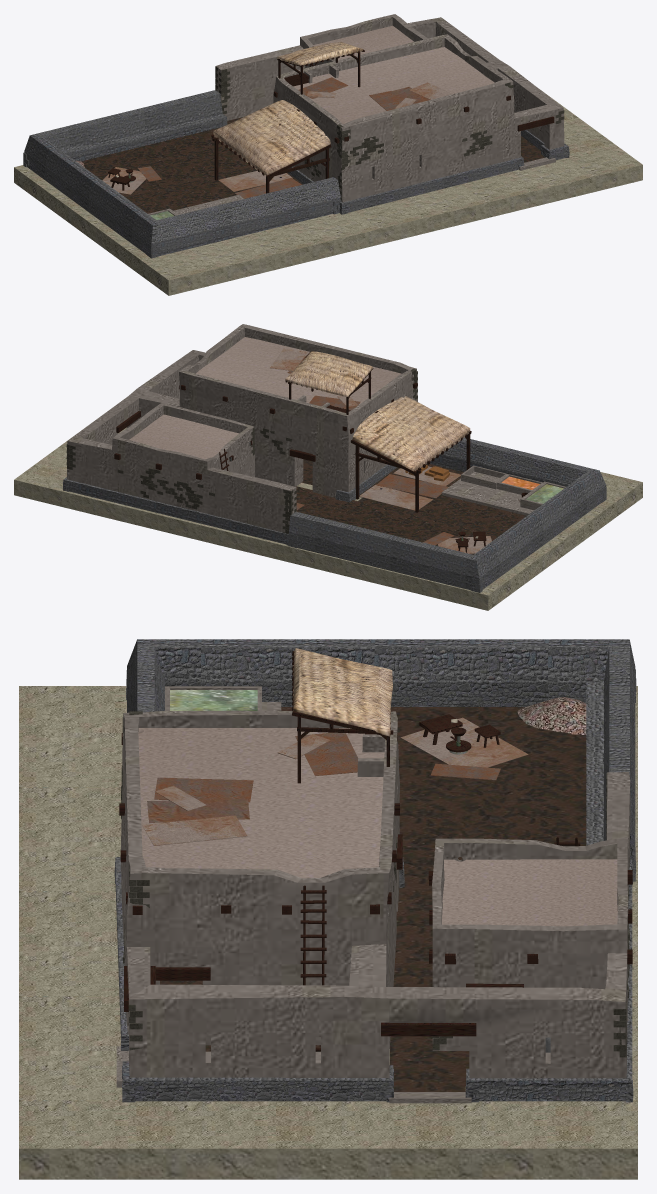
3 views of the same model, one above another, from view 1: azimuth 30°, elevation 25°; view 2: azimuth 150°, elevation 25°; view 3: azimuth 270°, elevation 25° (orthographic). The views are drawn at different scales.
Parts seen in each view (by area): view 1: murs_PARED GRECIA_0_183, socol_PEDRA SECA_0_218, Cube.023_terra grecia_0_46, Cube.012_terra grecia_0_24, Cube.011_TERRA PEUS+_0_22, sostre casagran_sostre grecia_0_224, Cube.089_paja_0_81, Cube.189_TOBOT_0_93, sostre 2_sostre grecia_0_220, Cube.016_paja_0_32, Plane.003_catifa2_0_189, Cube.019_fusta_0_38 (+5 smaller); view 2: murs_PARED GRECIA_0_183, socol_PEDRA SECA_0_218, Cube.012_terra grecia_0_24, Cube.011_TERRA PEUS+_0_22, Cube.089_paja_0_81, sostre casagran_sostre grecia_0_224, Cube.023_terra grecia_0_46, Cube.024_PARED GRECIA_0_48, sostre 2_sostre grecia_0_220, Cube.016_paja_0_32, Cube.189_TOBOT_0_93, Cube.006_TERRA PEUS+_0_16 (+7 smaller); view 3: murs_PARED GRECIA_0_183, Cube.023_terra grecia_0_46, socol_PEDRA SECA_0_218, sostre casagran_sostre grecia_0_224, Cube.011_TERRA PEUS+_0_22, Cube.012_terra grecia_0_24, sostre 2_sostre grecia_0_220, Cube.006_TERRA PEUS+_0_16, Cube.016_paja_0_32, Plane.008_catifa2_0_199, Plane.180_catifa2_0_216, Cube.189_TOBOT_0_93 (+13 smaller).
Part boxes in pixels (x1=…): murs_PARED GRECIA_0_183: x1=215, y1=14, x2=564, y2=202; socol_PEDRA SECA_0_218: x1=24, y1=90, x2=568, y2=256; Cube.023_terra grecia_0_46: x1=14, y1=90, x2=642, y2=280; Cube.012_terra grecia_0_24: x1=14, y1=165, x2=642, y2=295; Cube.011_TERRA PEUS+_0_22: x1=81, y1=128, x2=263, y2=213; sostre casagran_sostre grecia_0_224: x1=293, y1=47, x2=494, y2=124; Cube.089_paja_0_81: x1=213, y1=100, x2=330, y2=175; Cube.189_TOBOT_0_93: x1=215, y1=66, x2=564, y2=200; sostre 2_sostre grecia_0_220: x1=313, y1=25, x2=413, y2=60; Cube.016_paja_0_32: x1=277, y1=41, x2=363, y2=65; Plane.003_catifa2_0_189: x1=218, y1=171, x2=292, y2=191; Cube.019_fusta_0_38: x1=212, y1=137, x2=329, y2=193; murs_PARED GRECIA_0_183: x1=67, y1=324, x2=417, y2=533; socol_PEDRA SECA_0_218: x1=63, y1=437, x2=606, y2=590; Cube.012_terra grecia_0_24: x1=14, y1=480, x2=642, y2=610; Cube.011_TERRA PEUS+_0_22: x1=332, y1=464, x2=526, y2=554; Cube.089_paja_0_81: x1=352, y1=396, x2=470, y2=471; sostre casagran_sostre grecia_0_224: x1=196, y1=337, x2=401, y2=405; Cube.023_terra grecia_0_46: x1=14, y1=416, x2=642, y2=595; Cube.024_PARED GRECIA_0_48: x1=441, y1=465, x2=565, y2=515; sostre 2_sostre grecia_0_220: x1=129, y1=414, x2=238, y2=459; Cube.016_paja_0_32: x1=285, y1=351, x2=372, y2=396; Cube.189_TOBOT_0_93: x1=66, y1=369, x2=417, y2=533; Cube.006_TERRA PEUS+_0_16: x1=295, y1=486, x2=357, y2=520; murs_PARED GRECIA_0_183: x1=120, y1=711, x2=630, y2=1078; Cube.023_terra grecia_0_46: x1=19, y1=686, x2=637, y2=1148; socol_PEDRA SECA_0_218: x1=115, y1=639, x2=635, y2=1101; sostre casagran_sostre grecia_0_224: x1=138, y1=728, x2=384, y2=878; Cube.011_TERRA PEUS+_0_22: x1=281, y1=707, x2=586, y2=869; Cube.012_terra grecia_0_24: x1=19, y1=1148, x2=637, y2=1179; sostre 2_sostre grecia_0_220: x1=442, y1=859, x2=617, y2=926; Cube.006_TERRA PEUS+_0_16: x1=390, y1=869, x2=469, y2=1091; Cube.016_paja_0_32: x1=293, y1=648, x2=392, y2=736; Plane.008_catifa2_0_199: x1=400, y1=717, x2=528, y2=767; Plane.180_catifa2_0_216: x1=142, y1=815, x2=247, y2=845; Cube.189_TOBOT_0_93: x1=121, y1=711, x2=629, y2=1057.
Bounding box in the file's own units: 1.71 × 0.4677 × 0.9668.
45 materials, 19 textured.
